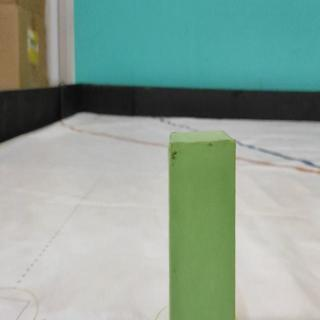greenbox: (168, 129, 235, 320)
